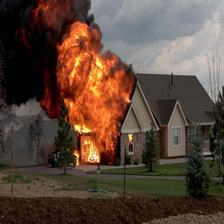fire: (1, 1, 133, 116), (66, 84, 120, 165)
